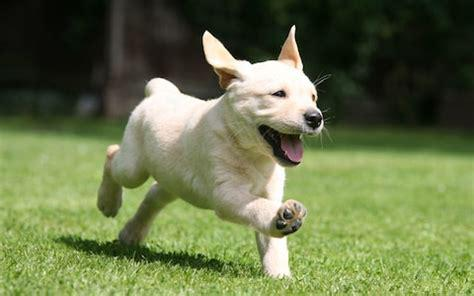dog: (96, 25, 322, 277)
